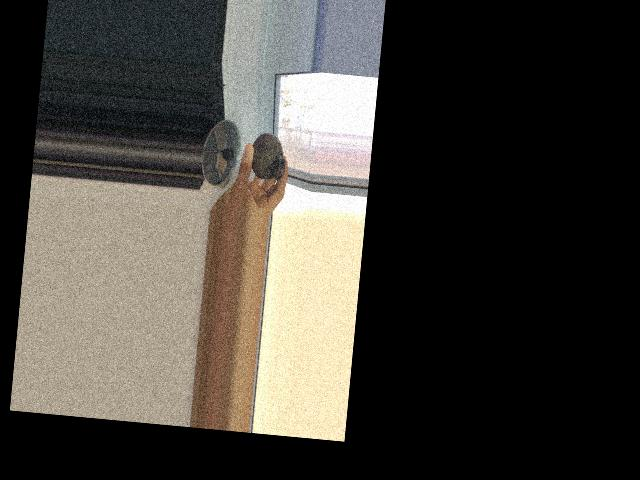beet: (247, 131, 288, 194)
